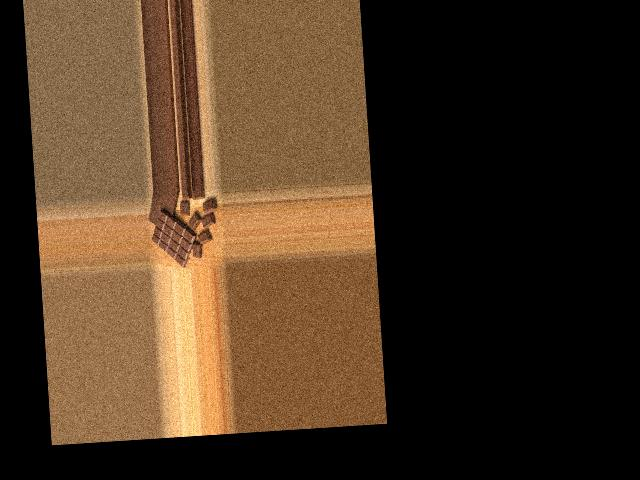chocolate: (149, 207, 200, 267)
